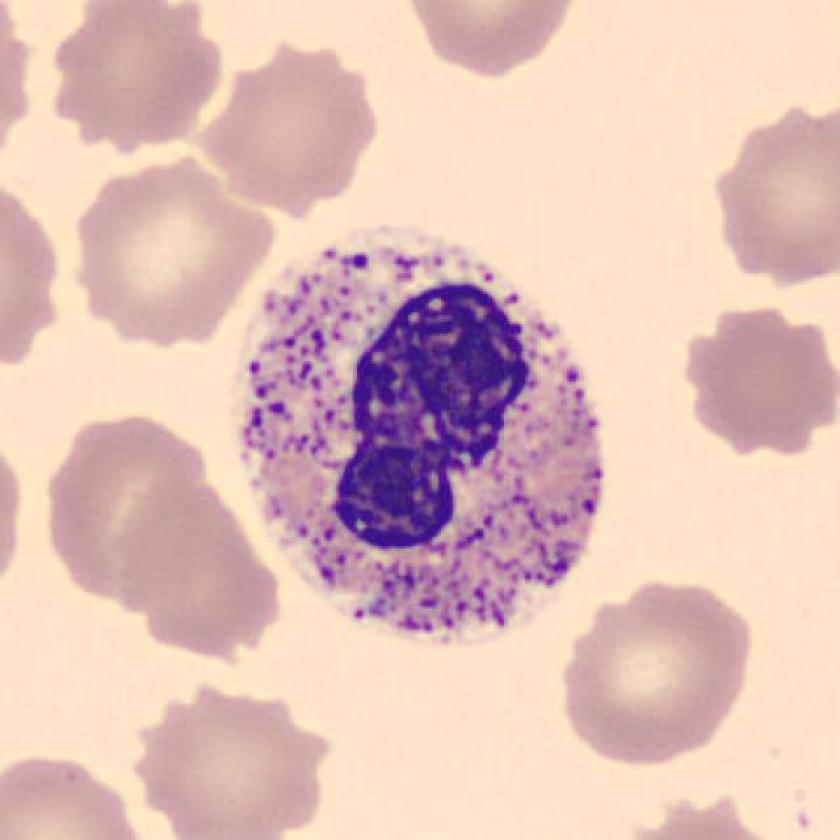neutrophil: (232, 227, 606, 638)
